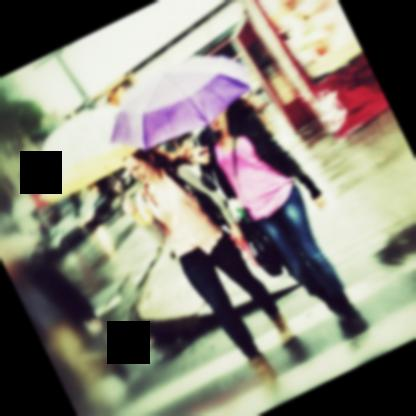handbag: (230, 134, 283, 278), (173, 174, 226, 224)
